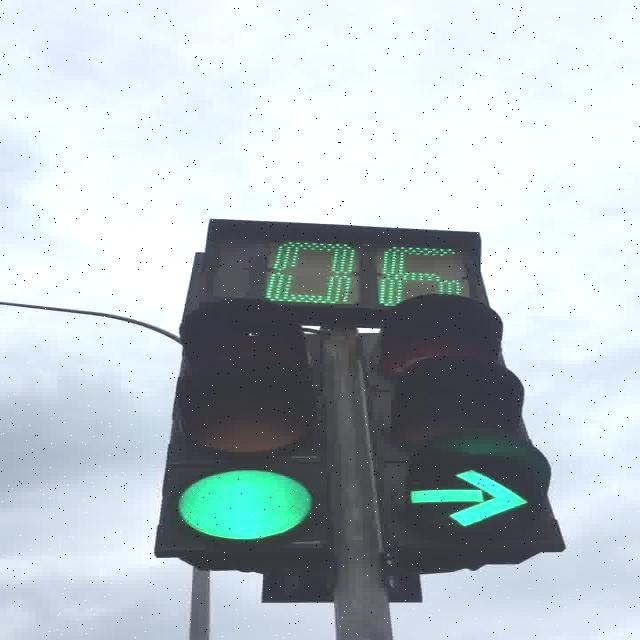green_light: (362, 295, 568, 553), (150, 301, 332, 558)
